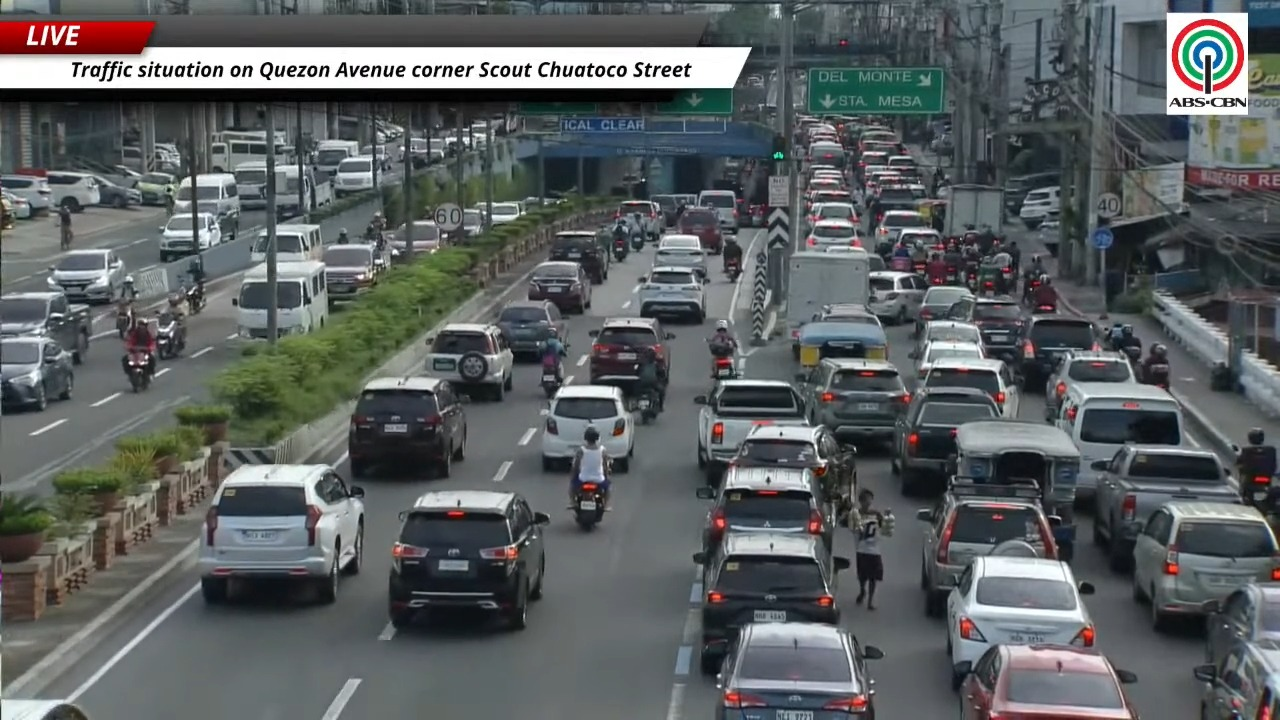car: (197, 464, 364, 603), (693, 531, 849, 674), (389, 490, 549, 629), (947, 555, 1095, 689), (1132, 499, 1279, 631), (916, 483, 1056, 615), (716, 622, 883, 719), (960, 644, 1138, 719), (696, 465, 834, 553), (348, 376, 467, 478), (891, 387, 999, 496), (730, 425, 856, 501), (801, 358, 910, 441), (542, 385, 634, 472), (1193, 639, 1279, 719), (425, 323, 513, 400), (919, 357, 1020, 418), (1045, 350, 1137, 416), (1205, 583, 1279, 664), (1019, 314, 1099, 386), (588, 318, 674, 384), (0, 335, 73, 410), (46, 249, 126, 302), (495, 300, 566, 357), (637, 266, 707, 323), (322, 243, 384, 306), (971, 296, 1024, 362), (548, 230, 611, 284), (527, 261, 591, 313), (868, 271, 927, 324), (159, 213, 222, 262), (913, 340, 987, 378), (915, 286, 972, 333), (913, 320, 980, 355), (387, 219, 442, 261), (653, 234, 707, 276), (45, 171, 100, 212), (675, 207, 723, 253), (0, 174, 52, 214), (1018, 186, 1060, 230), (0, 698, 88, 719), (332, 155, 377, 196), (615, 200, 661, 240), (697, 190, 739, 233), (805, 220, 862, 250), (90, 175, 141, 208), (875, 210, 928, 241), (815, 303, 882, 326), (650, 194, 695, 226), (135, 172, 177, 205), (476, 202, 523, 225), (807, 187, 853, 210), (896, 227, 942, 248), (0, 191, 32, 219), (809, 169, 846, 190), (806, 176, 842, 194), (461, 208, 483, 237)
motorcycle: (1231, 443, 1274, 511), (572, 482, 604, 530), (155, 313, 184, 359), (126, 351, 151, 393), (540, 363, 562, 398), (115, 301, 135, 339), (1142, 363, 1169, 389), (184, 283, 206, 314), (636, 392, 657, 424), (712, 356, 736, 379), (1023, 278, 1041, 305), (1121, 345, 1141, 367), (121, 275, 137, 300), (725, 258, 741, 282), (613, 238, 627, 261), (1031, 303, 1057, 314), (630, 231, 644, 251), (965, 269, 977, 291), (945, 265, 958, 285)
truck: (1084, 444, 1240, 570), (695, 380, 808, 486), (785, 249, 870, 339), (0, 292, 91, 364), (943, 184, 1004, 236), (276, 165, 333, 218)
